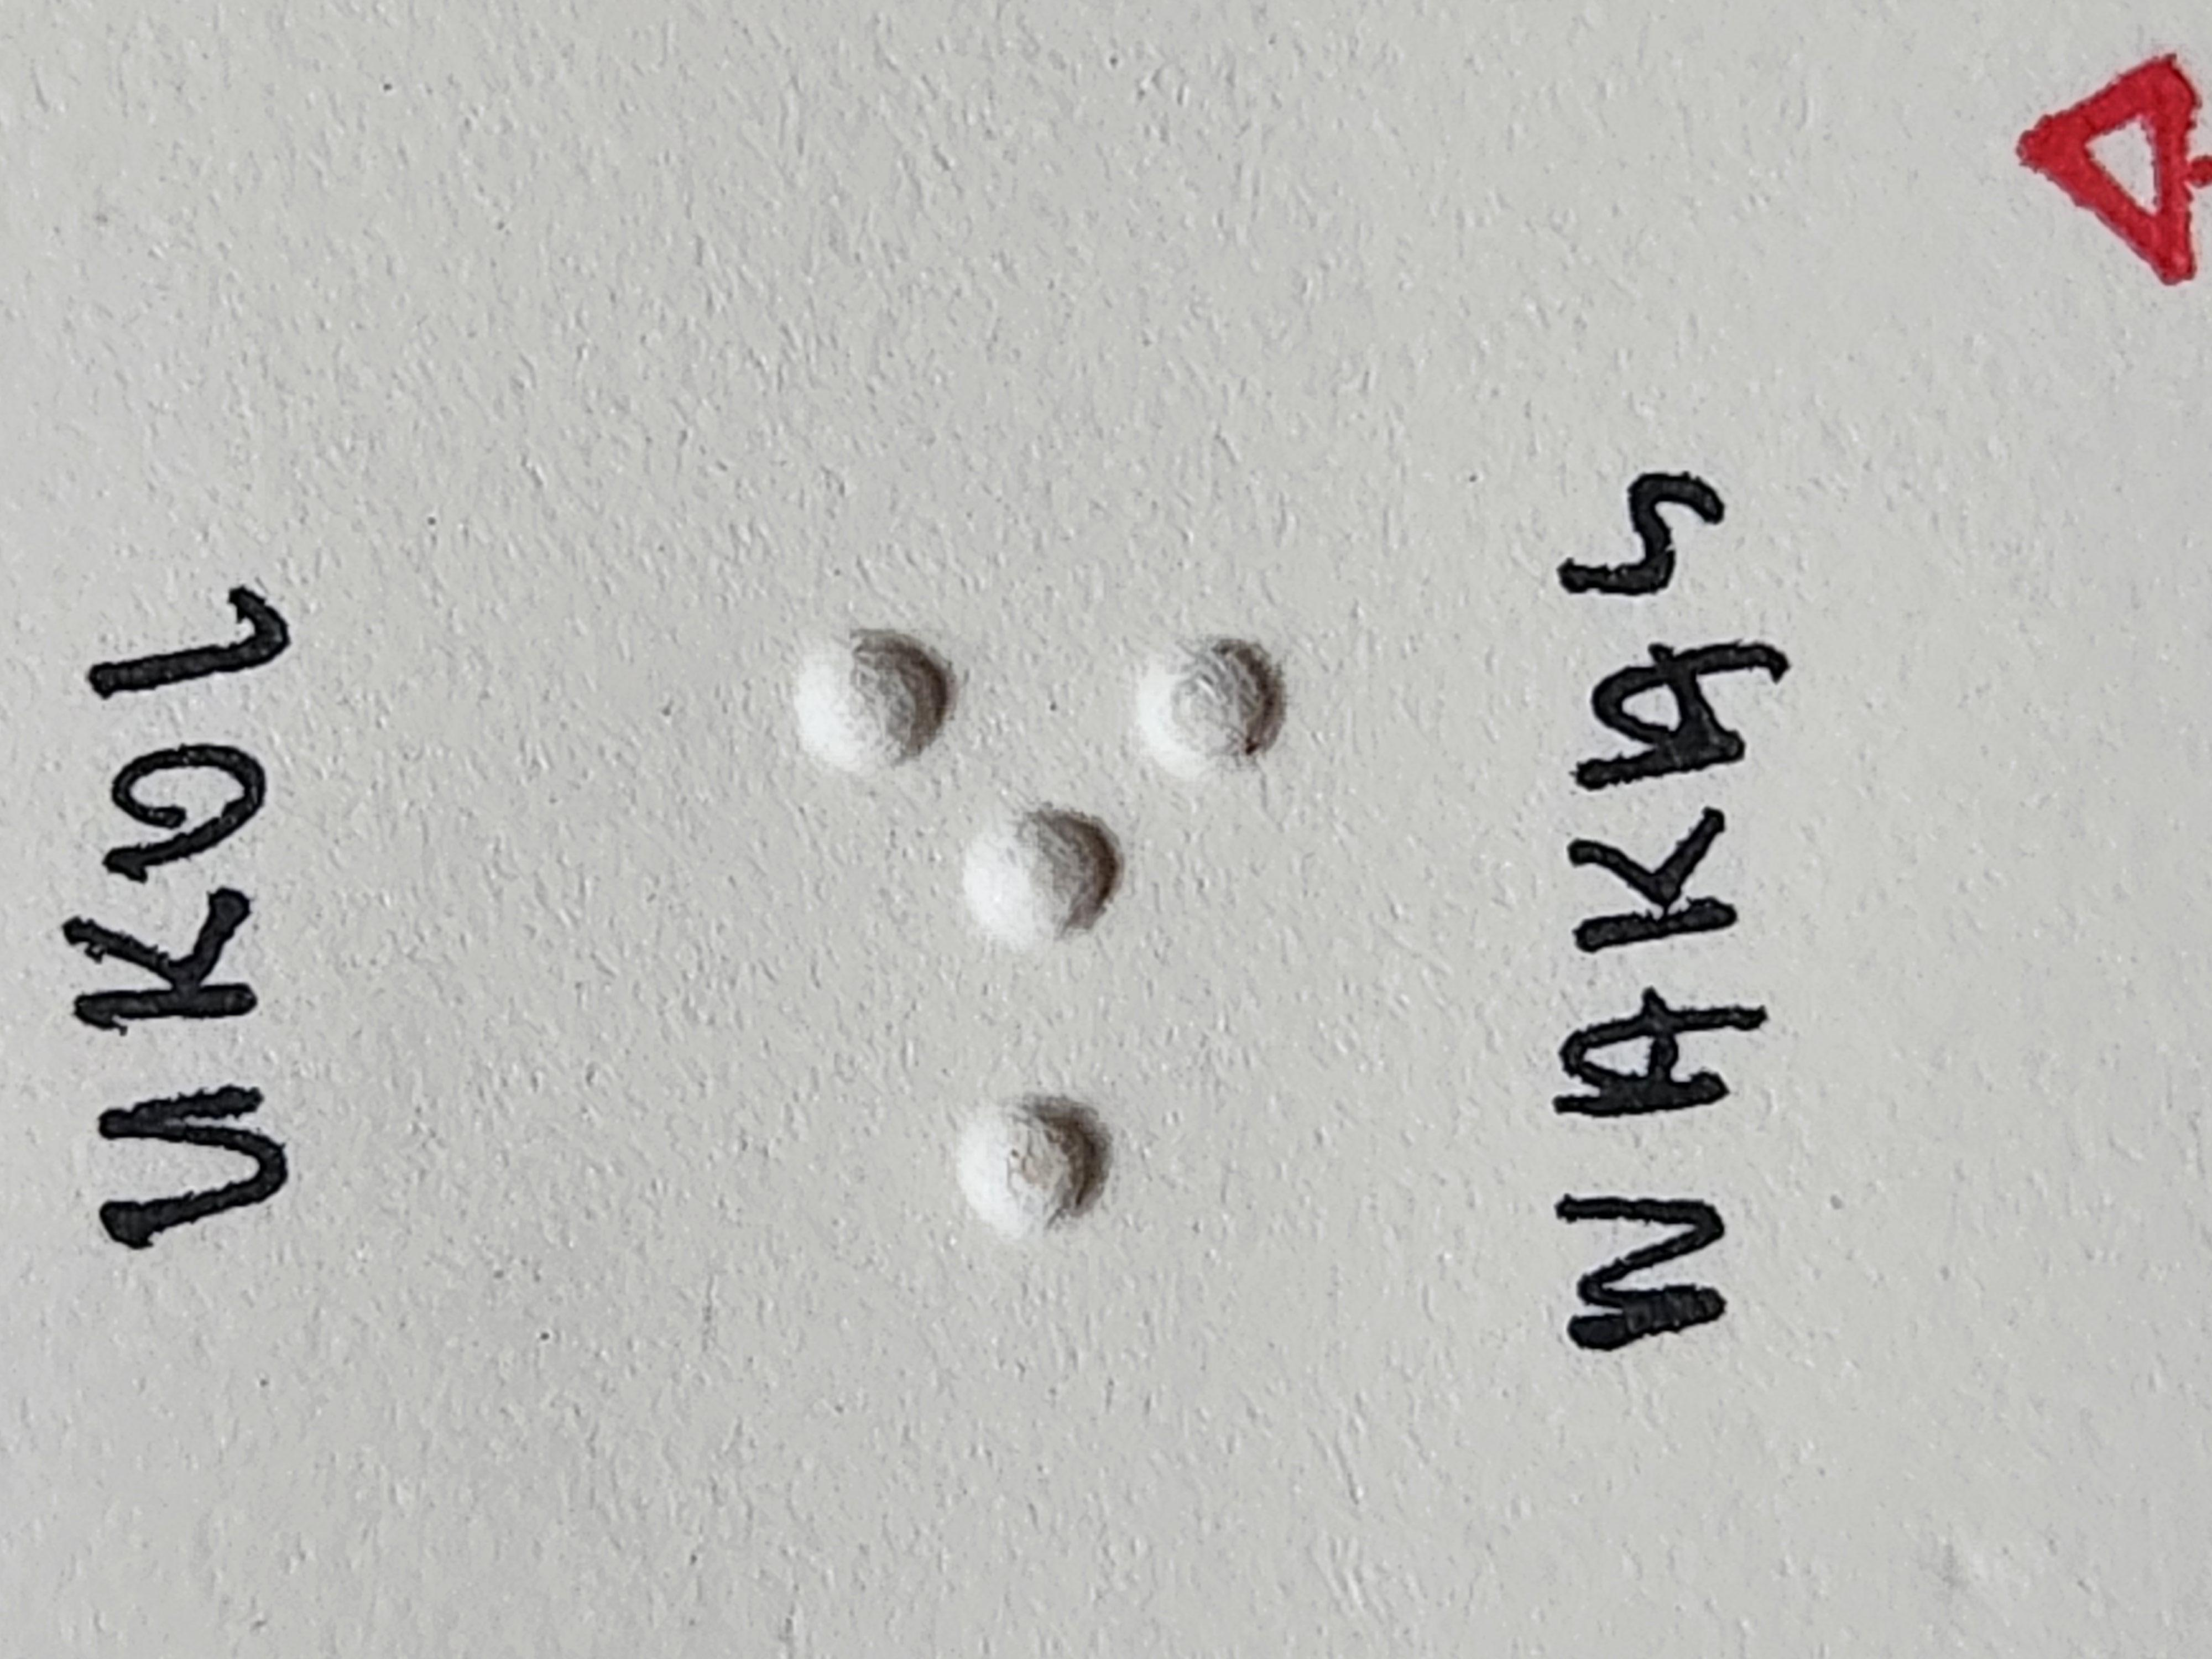dot_5: (322, 594, 751, 971)
two_cell_non_alphabet_wakas: (953, 594, 1381, 971)
